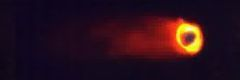keyhole: (179, 30, 198, 48)
